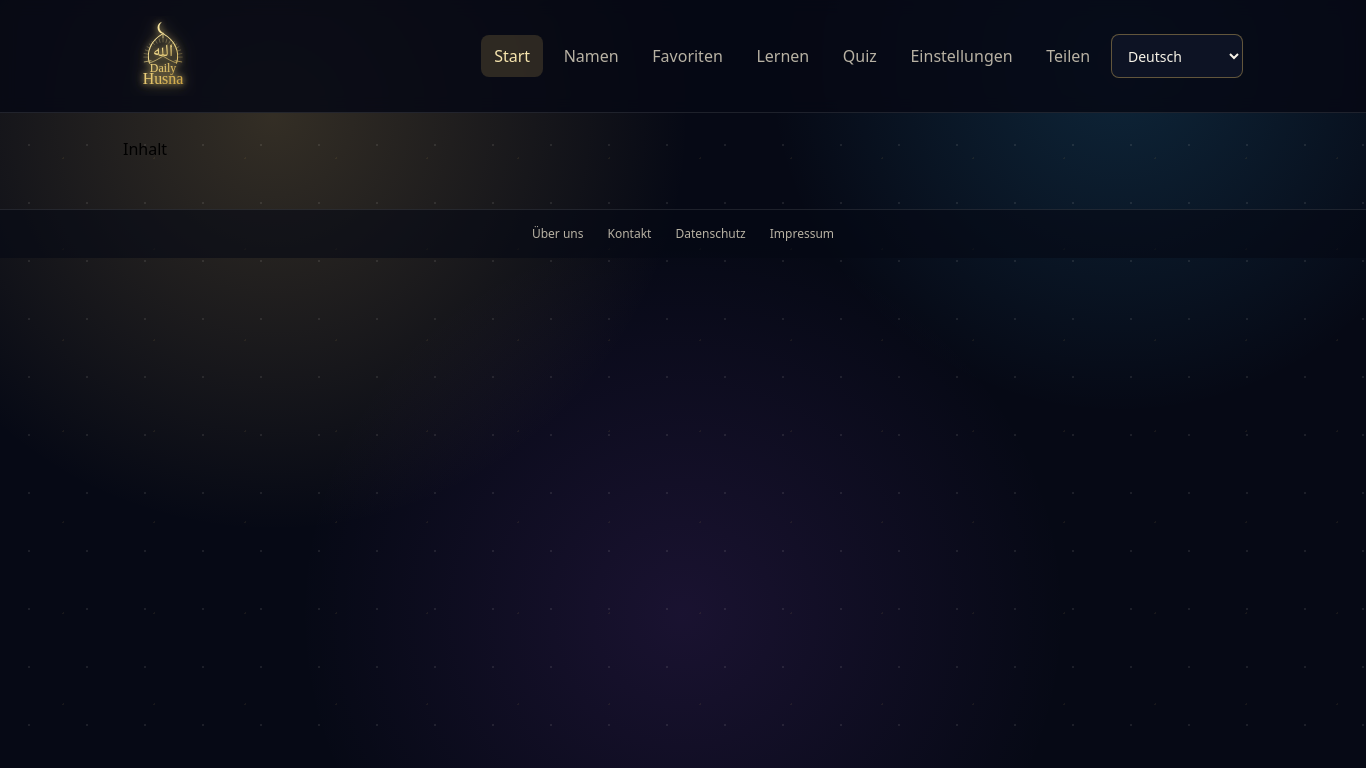
it: AppShell › copies the current page link when native sharing is unavailable
This screenshot has width=1366, height=768.
Click the button "Teilen" at (1068, 56), box [1033,35,1103,77]
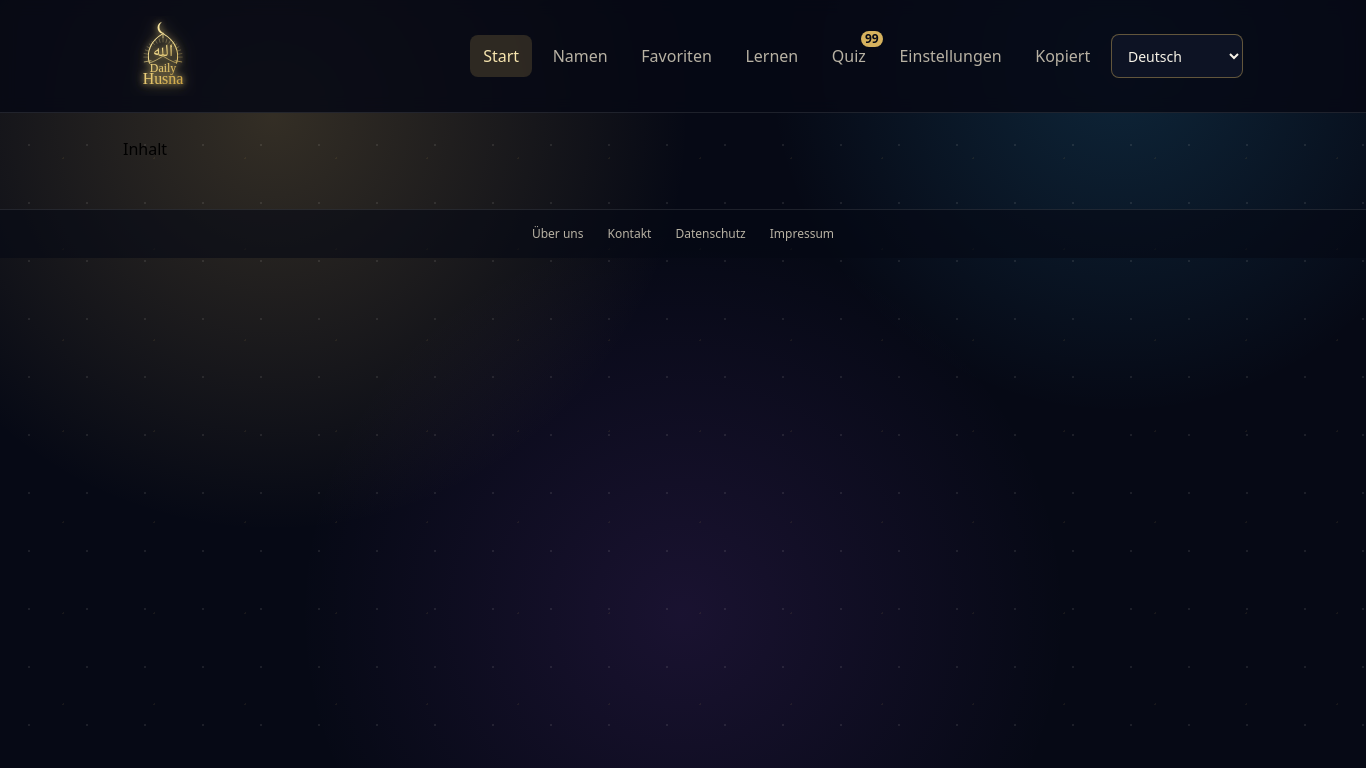
Now the text "Kopiert" is shown, box [1035,44,1090,68]
